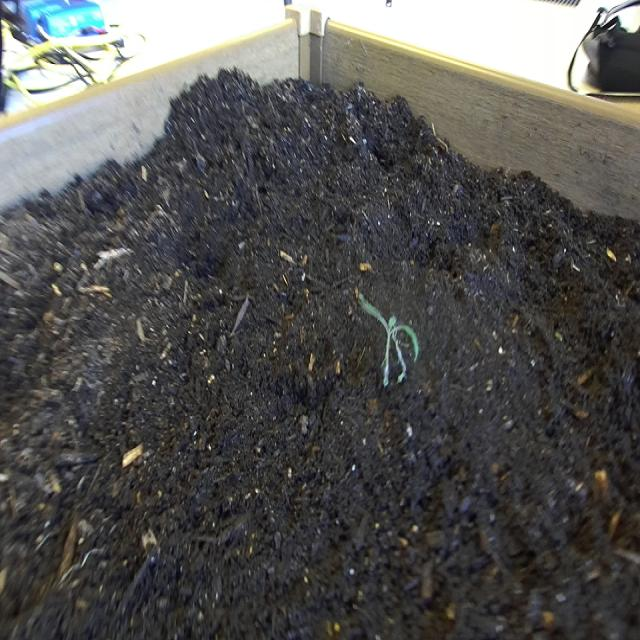Unhealthy: (354, 280, 423, 395)
